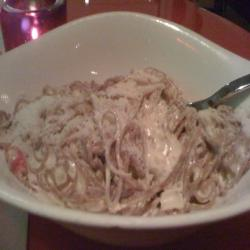carbonara: (3, 67, 250, 229)
